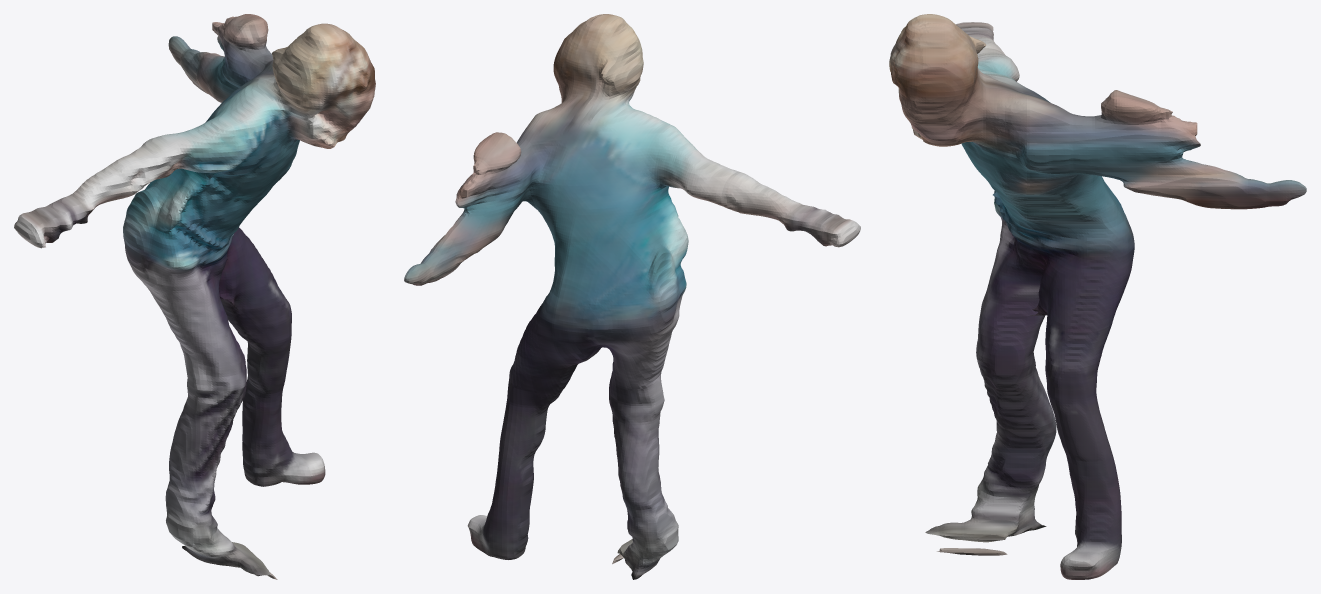
The model's file is 0019_tex.glb.
3 views of the same model, side by side, from view 1: azimuth 30°, elevation 25°; view 2: azimuth 150°, elevation 25°; view 3: azimuth 270°, elevation 25° (orthographic). The views are drawn at different scales.
Visible parts, largest first — view 1: 0019_tex.obj; view 2: 0019_tex.obj; view 3: 0019_tex.obj.
Part boxes in pixels (<box>): 0019_tex.obj: <box>14,14,375,579</box>; 0019_tex.obj: <box>404,14,860,579</box>; 0019_tex.obj: <box>889,14,1306,579</box>.
Size of the model in its own units: 0.5969 by 0.8818 by 0.5978.
